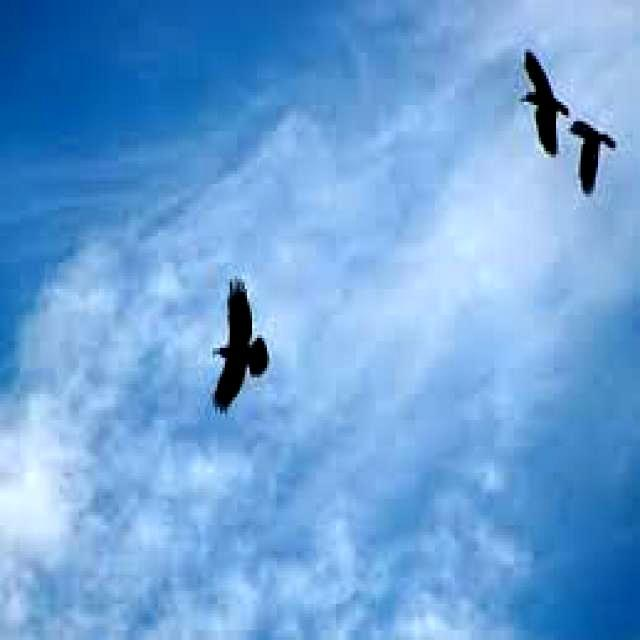bird: (190, 272, 286, 421), (510, 32, 570, 170), (570, 99, 618, 208)
